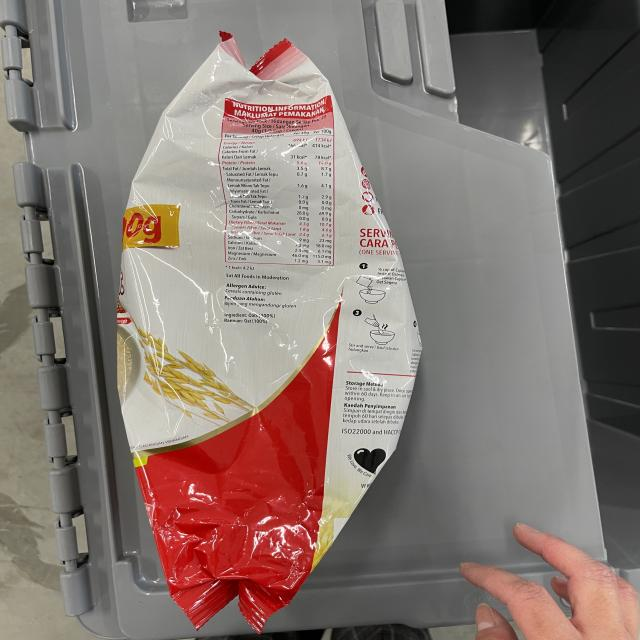object_name: (144, 81, 368, 583)
